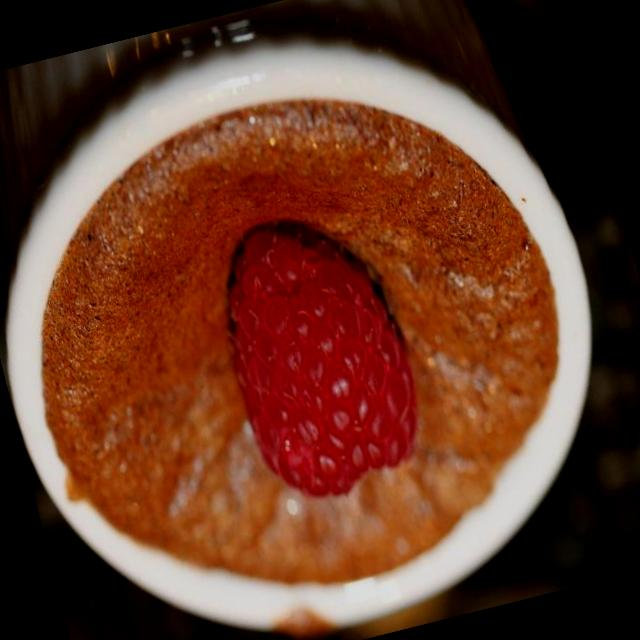Strawberry: (203, 200, 438, 514)
